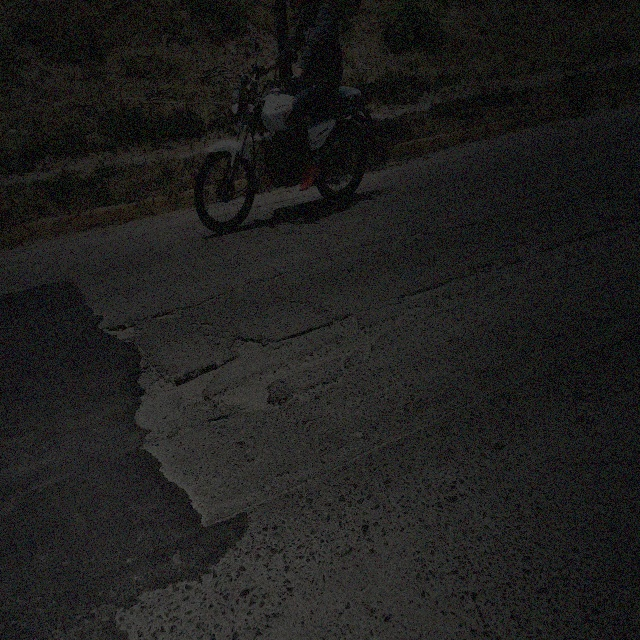pothole: (180, 305, 373, 433), (403, 273, 488, 308), (170, 362, 227, 403), (513, 239, 549, 279), (607, 213, 637, 254), (569, 232, 606, 258), (99, 322, 139, 346)
